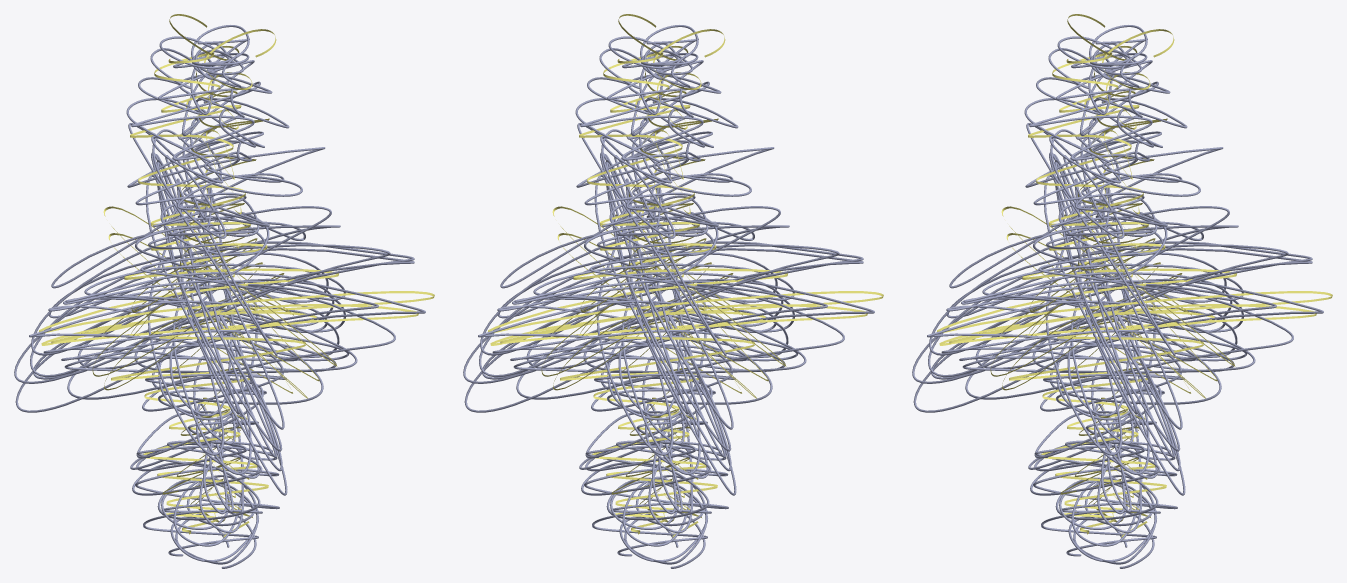
3 views of the same model, side by side, from view 1: azimuth 30°, elevation 25°; view 2: azimuth 150°, elevation 25°; view 3: azimuth 270°, elevation 25° (orthographic).
Parts seen in each view (by area): view 1: flight6; view 2: flight6; view 3: flight6.
Boxes of the visible parts, x1,y1,x2,y2 form: flight6: (14,14,434,568); flight6: (463,14,883,568); flight6: (912,14,1332,568).
Size of the model in its own units: 26.2 by 35.9 by 26.24.
